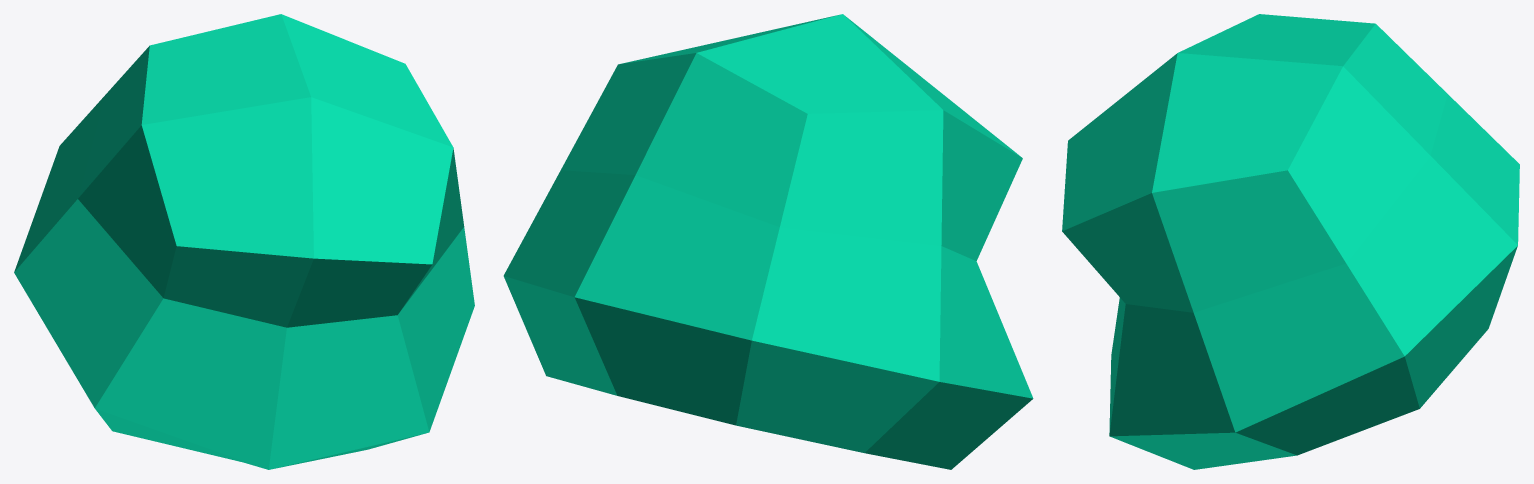
Rendered from Slime_Color.fbx.
3 views of the same model, side by side, from view 1: azimuth 30°, elevation 25°; view 2: azimuth 150°, elevation 25°; view 3: azimuth 270°, elevation 25° (orthographic). The views are drawn at different scales.
Parts seen in each view (by area): view 1: Slime_Color; view 2: Slime_Color; view 3: Slime_Color.
Part boxes in pixels (left/top/right/bottom): Slime_Color: left=14, top=14, right=474, bottom=469; Slime_Color: left=503, top=14, right=1033, bottom=469; Slime_Color: left=1062, top=14, right=1519, bottom=469.
Size of the model in its own units: 11.19 by 11.15 by 10.66.
